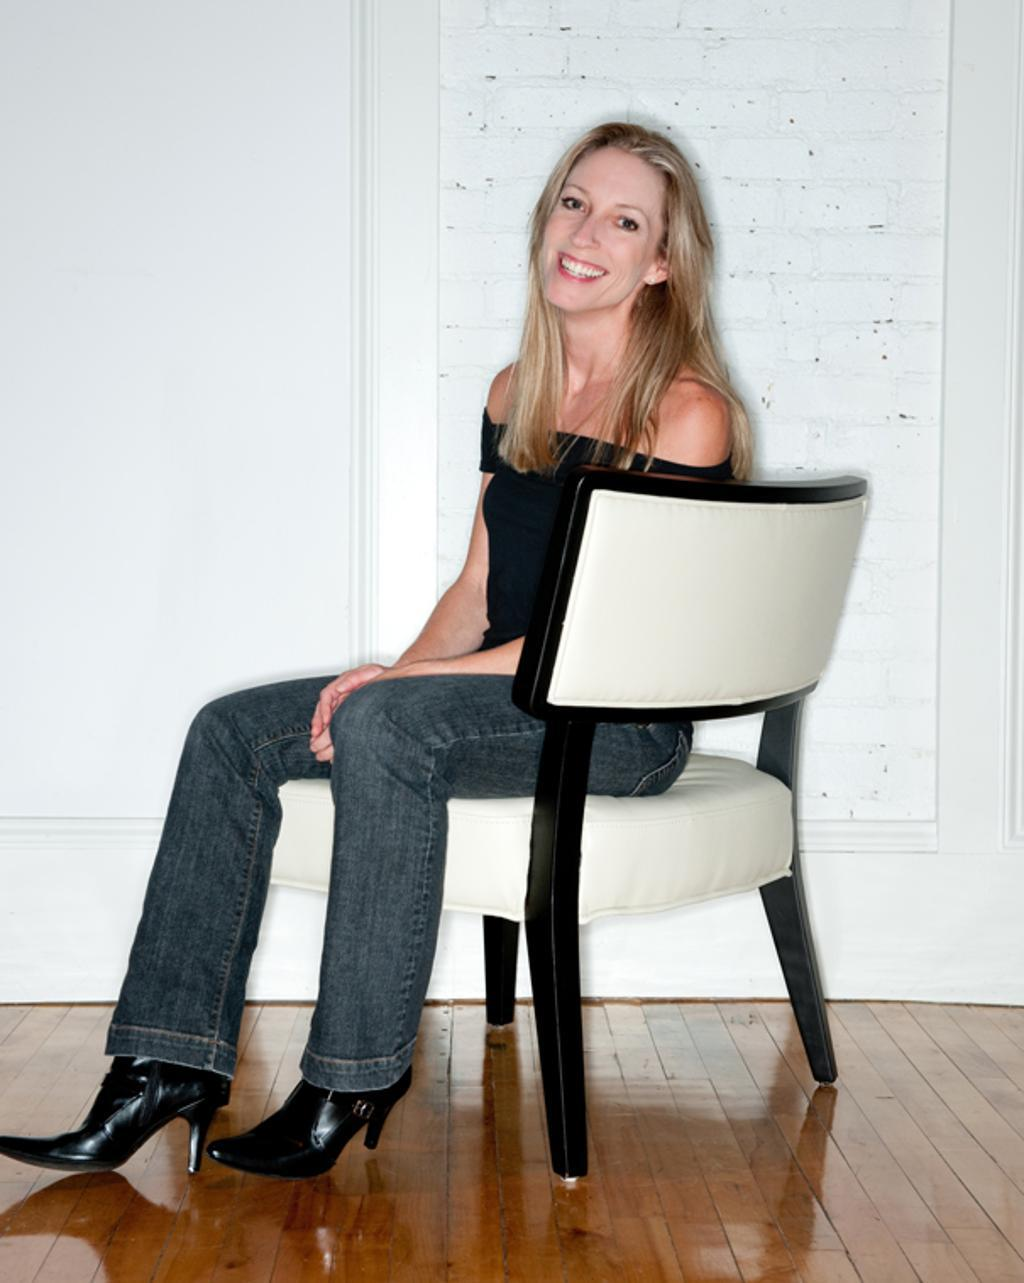face: (549, 149, 654, 302)
